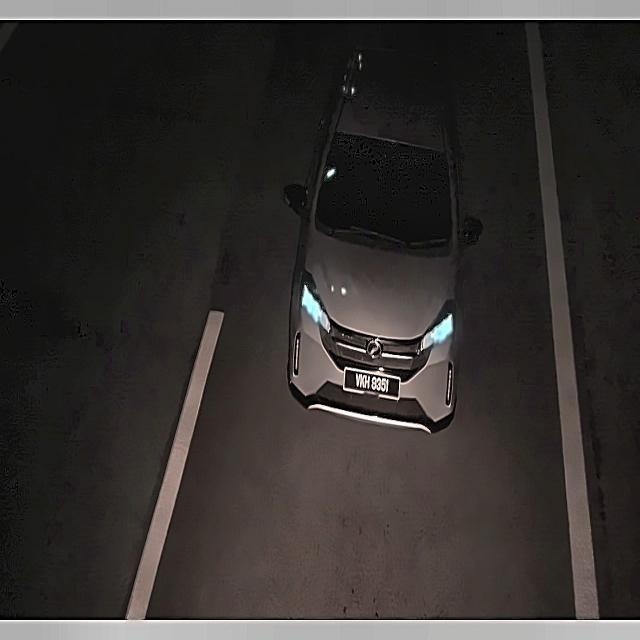car: (338, 358, 406, 408)
